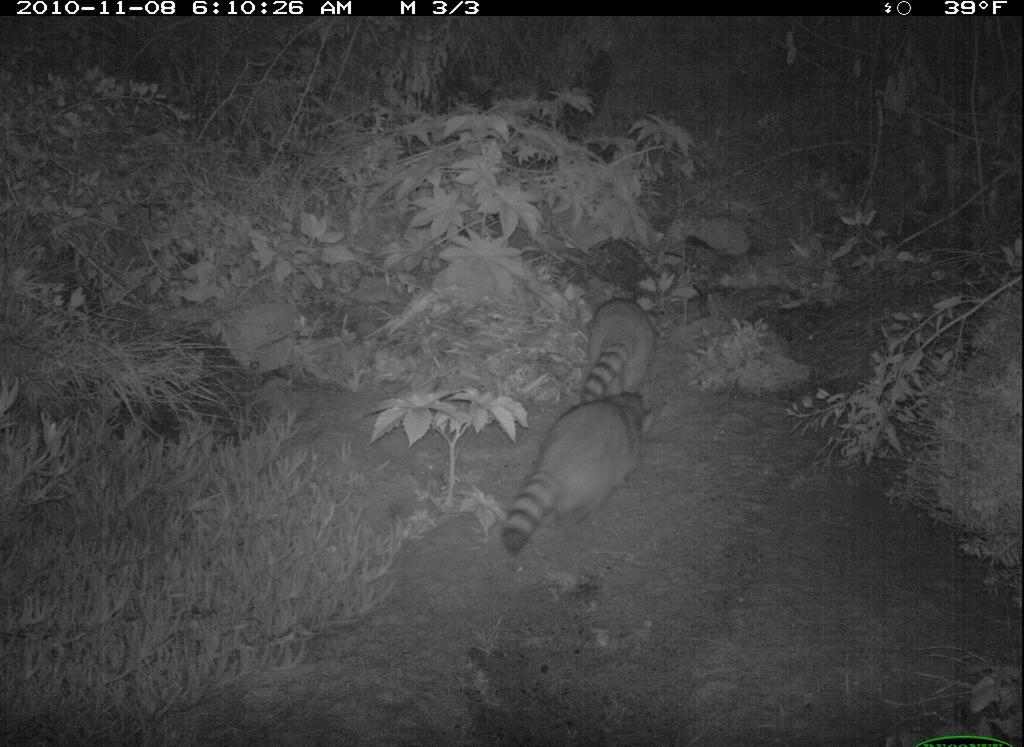raccoon: (493, 387, 655, 561), (565, 289, 664, 417)
